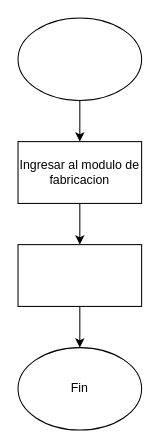
The diagram is 160 pixels wide and 448 high, and some of its shapes have lost their labels. Here are the shapes that lost their labels. From the top down, the centre of each, then its label:
point 79,58: Inicio
point 79,275: Crear Producto
